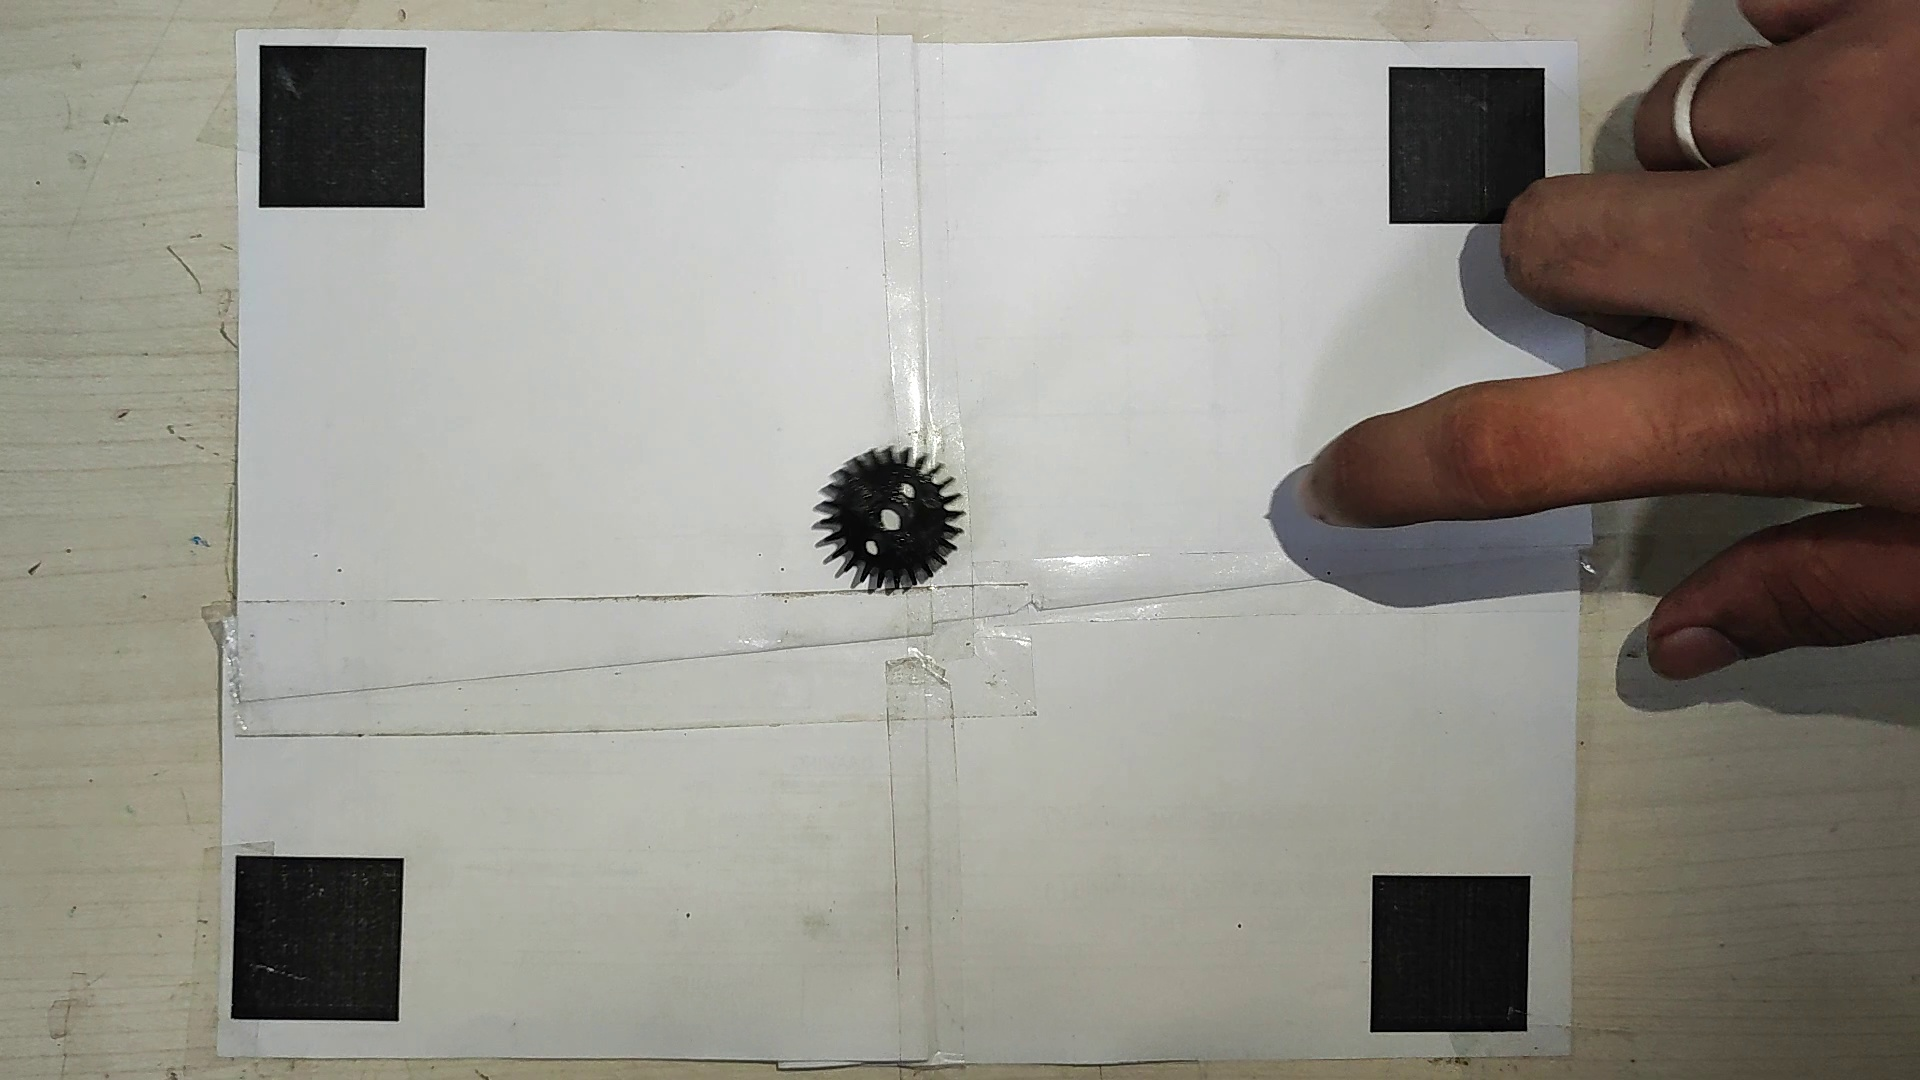Gear: (811, 438, 966, 593)
